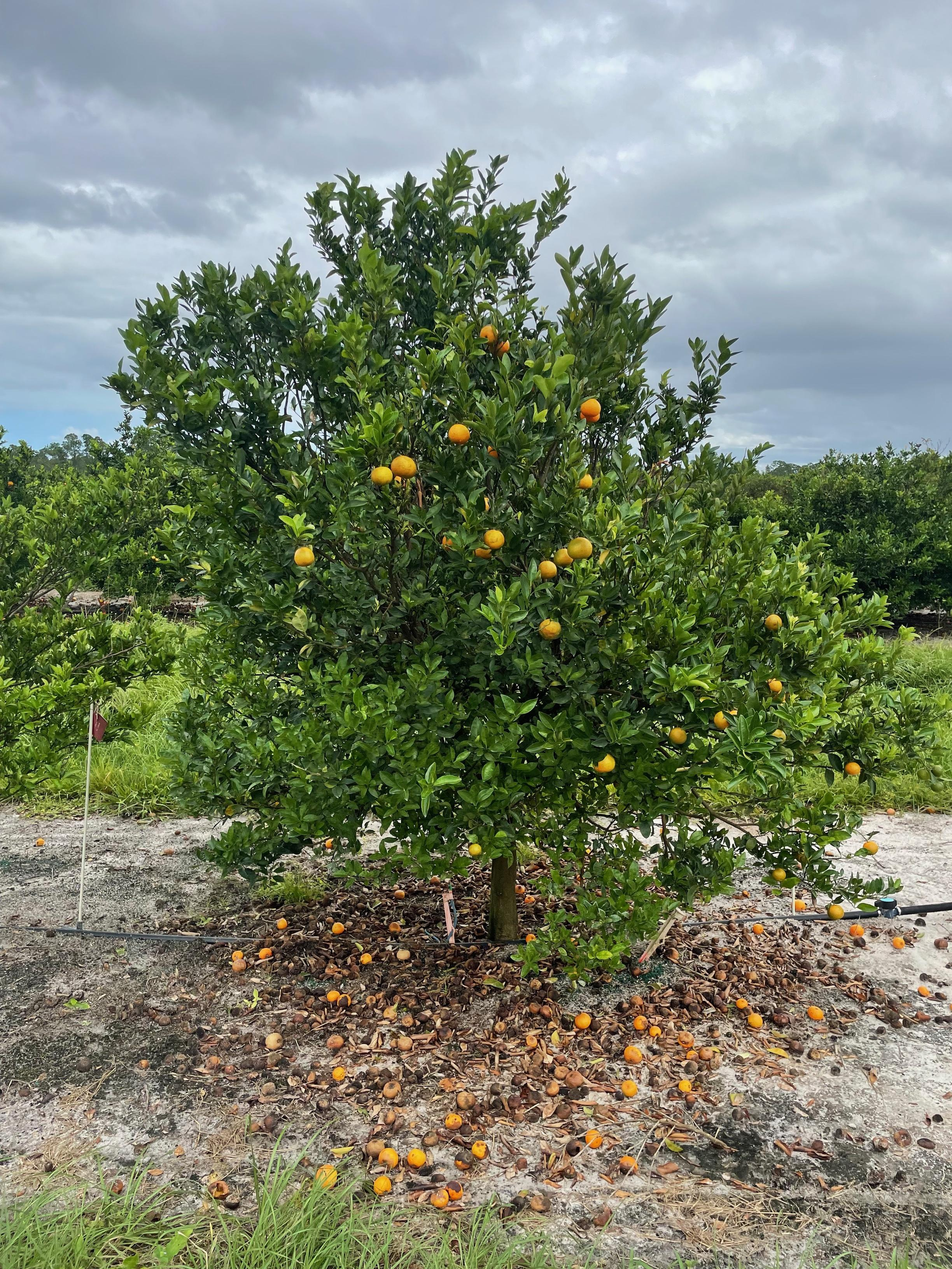fruit_on_ground: (536, 615, 564, 642), (390, 454, 419, 480), (445, 421, 474, 447), (291, 542, 318, 569), (566, 535, 594, 561), (487, 333, 514, 359), (368, 462, 396, 487), (476, 322, 502, 348), (592, 750, 618, 775), (481, 528, 507, 551), (536, 558, 560, 582), (440, 530, 463, 554), (666, 724, 690, 747), (552, 545, 575, 568), (711, 708, 734, 731), (470, 540, 494, 562), (484, 440, 508, 462), (761, 611, 785, 633), (579, 397, 602, 419), (579, 405, 602, 426), (575, 470, 596, 491), (768, 724, 790, 744), (842, 758, 864, 778), (825, 902, 846, 922), (764, 675, 785, 694), (794, 846, 813, 865), (726, 708, 745, 726), (861, 837, 880, 855), (466, 840, 485, 858), (770, 866, 788, 884), (915, 766, 931, 781), (929, 779, 945, 794), (929, 763, 944, 778), (323, 837, 336, 850)
fruit_on_tree: (313, 1163, 339, 1190), (376, 1147, 399, 1169), (529, 1192, 551, 1213), (406, 1147, 427, 1168), (455, 1089, 477, 1109), (364, 1136, 385, 1156), (583, 1128, 604, 1148), (623, 1044, 644, 1064), (208, 1178, 230, 1197), (616, 1154, 638, 1173), (263, 1031, 285, 1050), (381, 1078, 401, 1098), (619, 1078, 639, 1098), (373, 1174, 393, 1194), (104, 1177, 125, 1196), (430, 1189, 450, 1208), (471, 1138, 489, 1159), (446, 1180, 465, 1199), (564, 1069, 584, 1087), (745, 1011, 765, 1029), (325, 1032, 345, 1050), (444, 1112, 464, 1130), (554, 1103, 575, 1120), (573, 1011, 592, 1029), (806, 1003, 825, 1021), (697, 1045, 717, 1062), (676, 1030, 696, 1047), (861, 838, 880, 855), (420, 1130, 439, 1147), (565, 1138, 584, 1155), (552, 1064, 571, 1081), (632, 1014, 650, 1031), (438, 1076, 457, 1092), (659, 1159, 680, 1173), (396, 1034, 413, 1051), (262, 1113, 278, 1131), (382, 1003, 399, 1019), (544, 1078, 560, 1095), (260, 1080, 276, 1096), (663, 945, 680, 960), (933, 935, 950, 950), (331, 1065, 346, 1082), (849, 922, 866, 937), (429, 1170, 447, 1184), (684, 1048, 700, 1063), (677, 1078, 693, 1093), (382, 1108, 397, 1124), (628, 993, 644, 1008), (648, 1023, 664, 1038), (395, 946, 411, 961), (257, 946, 274, 960), (525, 1033, 540, 1048), (540, 1003, 555, 1018), (734, 996, 749, 1011), (338, 993, 353, 1008), (773, 1012, 789, 1026), (400, 1014, 416, 1028), (616, 999, 632, 1013), (917, 983, 933, 997), (387, 920, 403, 934), (791, 898, 807, 912), (915, 1009, 932, 1022), (231, 959, 248, 972), (493, 1019, 508, 1033), (454, 1157, 469, 1171), (206, 1054, 221, 1068), (891, 935, 906, 949), (528, 1002, 542, 1016), (712, 968, 727, 981), (512, 882, 527, 895), (359, 951, 374, 964), (393, 887, 407, 900), (275, 917, 289, 930), (751, 921, 765, 934), (325, 989, 339, 1002), (331, 921, 345, 934), (232, 949, 246, 961), (524, 932, 538, 944), (162, 845, 177, 856), (137, 1057, 150, 1069), (683, 1094, 696, 1106), (428, 873, 441, 885), (363, 993, 376, 1005), (885, 805, 898, 817), (523, 893, 536, 905), (924, 805, 938, 815), (34, 836, 46, 847), (740, 888, 751, 898)
